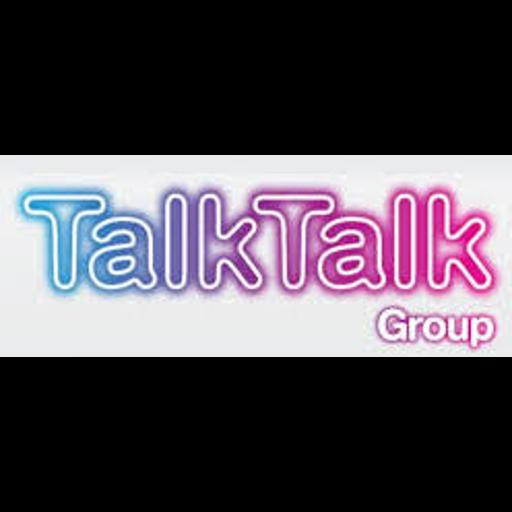TalkTalk Communications: (0, 155, 512, 357)
